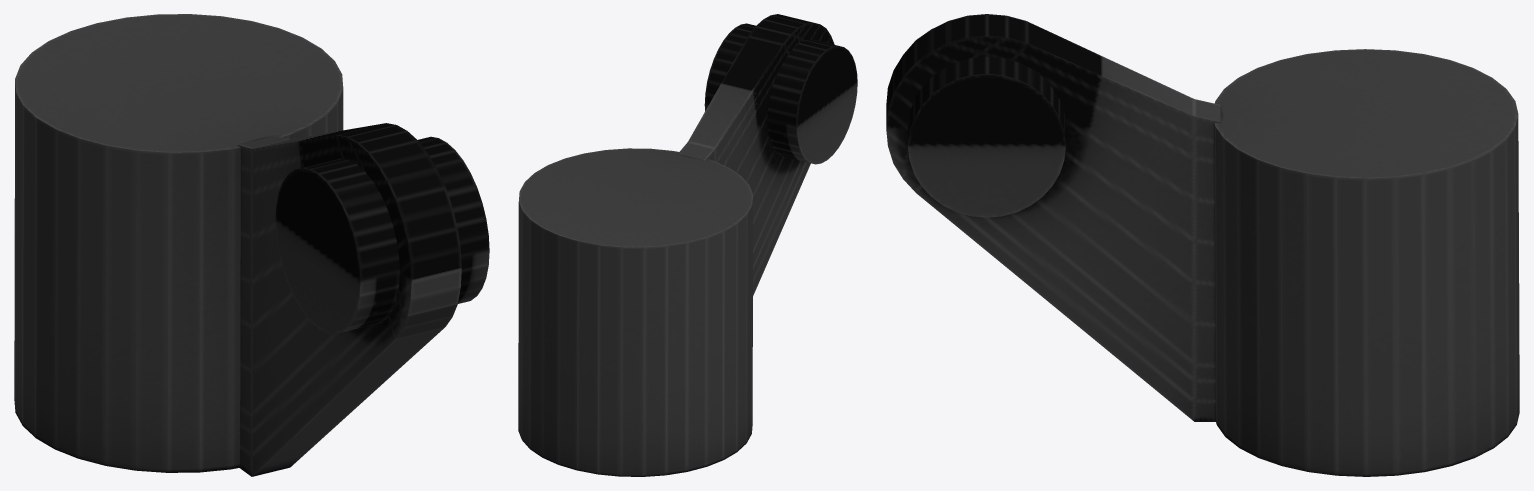
Rendered from shoulder.dae.
The picture shows the model from 3 angles, left to right: view 1: azimuth 30°, elevation 25°; view 2: azimuth 150°, elevation 25°; view 3: azimuth 270°, elevation 25°; orthographic projection. The views are drawn at different scales.
Visible parts, largest first — view 1: root-base; view 2: root-base; view 3: root-base.
Boxes of the visible parts, x1=… form: root-base: x1=14, y1=14, x2=489, y2=476; root-base: x1=518, y1=14, x2=857, y2=476; root-base: x1=886, y1=14, x2=1519, y2=476.
Size of the model in its own units: 0.1614 by 0.3342 by 0.2257.
